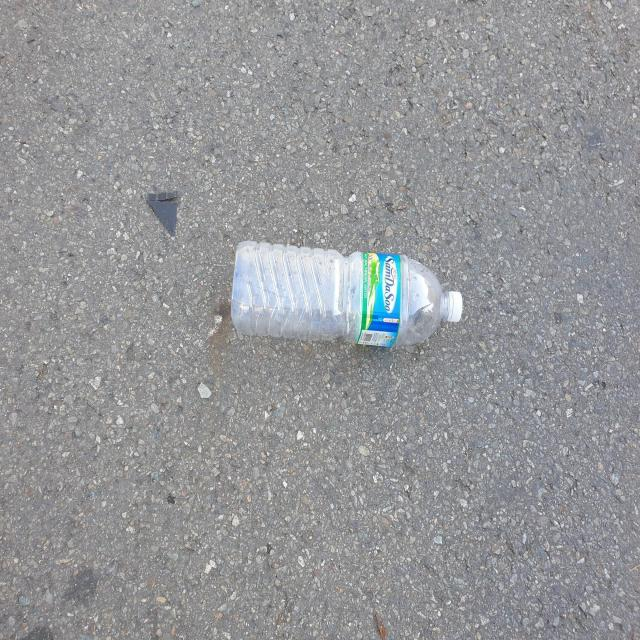plastic: (231, 241, 463, 347)
